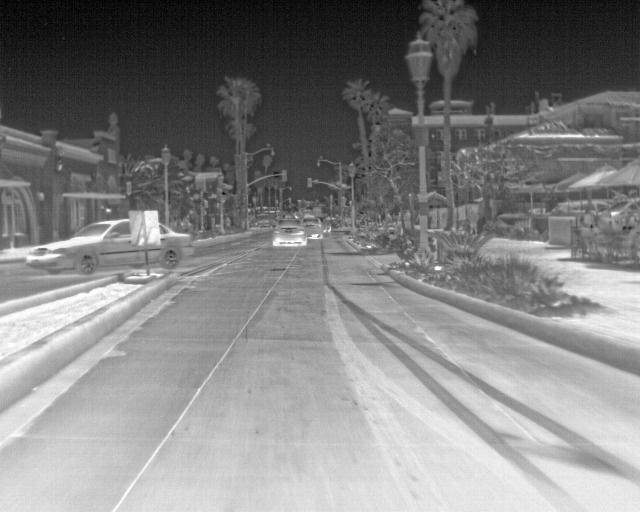bicycle: (22, 218, 145, 278), (148, 219, 195, 270), (271, 223, 306, 247), (298, 222, 320, 241), (254, 213, 274, 230)
